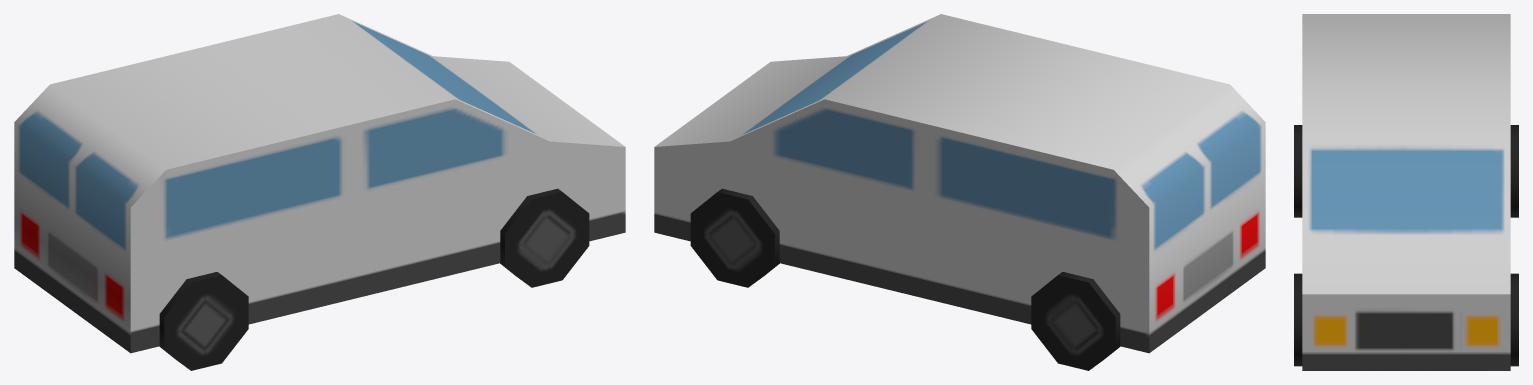
Rendered from Car05.glb.
3 renders of one model, left to right at view 1: azimuth 30°, elevation 25°; view 2: azimuth 150°, elevation 25°; view 3: azimuth 270°, elevation 25°, orthographic. The views are drawn at different scales.
Visible parts, largest first — view 1: Car05; view 2: Car05; view 3: Car05.
Part boxes in pixels (bbox=[...]): Car05: bbox=[14, 14, 625, 370]; Car05: bbox=[654, 14, 1265, 370]; Car05: bbox=[1294, 14, 1518, 370].
Size of what is drawn, in the model's own units: 3.87 by 1.51 by 1.7.
1 material, 1 textured.
